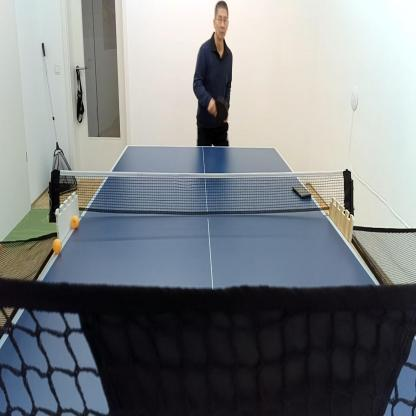Ball: (52, 236, 63, 257), (70, 213, 80, 231), (320, 200, 328, 211), (0, 241, 3, 252)
